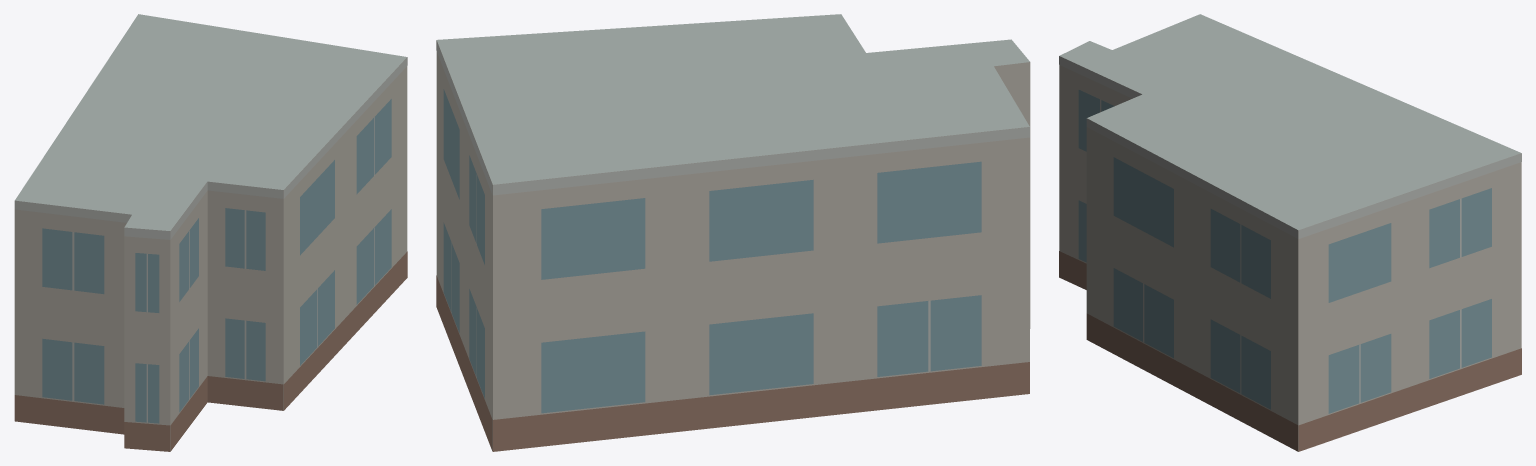
The model's file is survey-upis-32729728.glb.
3 views of the same model, side by side, from view 1: azimuth 30°, elevation 25°; view 2: azimuth 150°, elevation 25°; view 3: azimuth 270°, elevation 25° (orthographic). The views are drawn at different scales.
Visible parts, largest first — view 1: survey-upis-32729728.tmp; view 2: survey-upis-32729728.tmp; view 3: survey-upis-32729728.tmp.
Part boxes in pixels (x1=…): survey-upis-32729728.tmp: x1=14, y1=14, x2=407, y2=451; survey-upis-32729728.tmp: x1=436, y1=14, x2=1030, y2=451; survey-upis-32729728.tmp: x1=1059, y1=14, x2=1521, y2=451.
Size of the model in its own units: 12.78 by 6.1 by 11.55.
